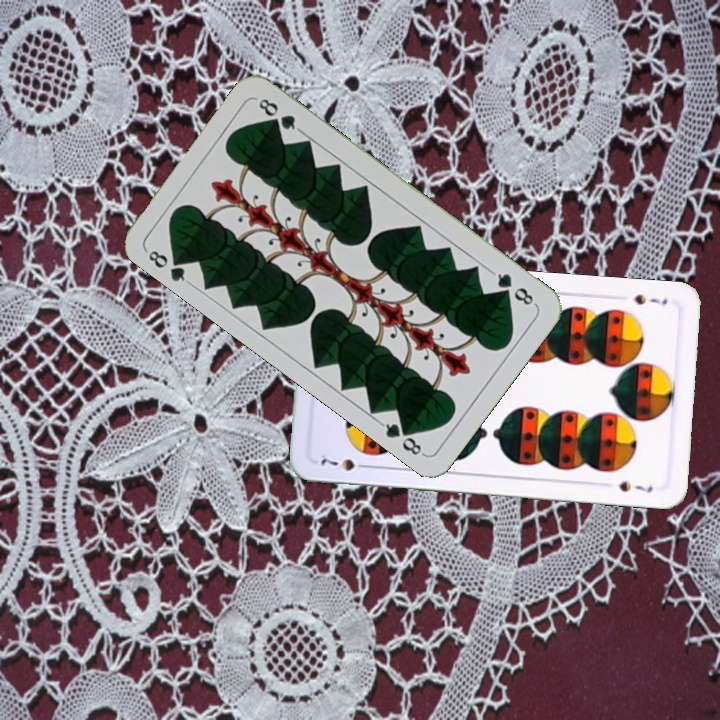G8: (142, 245, 193, 287), (487, 267, 538, 308)
S7: (315, 450, 372, 474), (631, 290, 670, 308)
